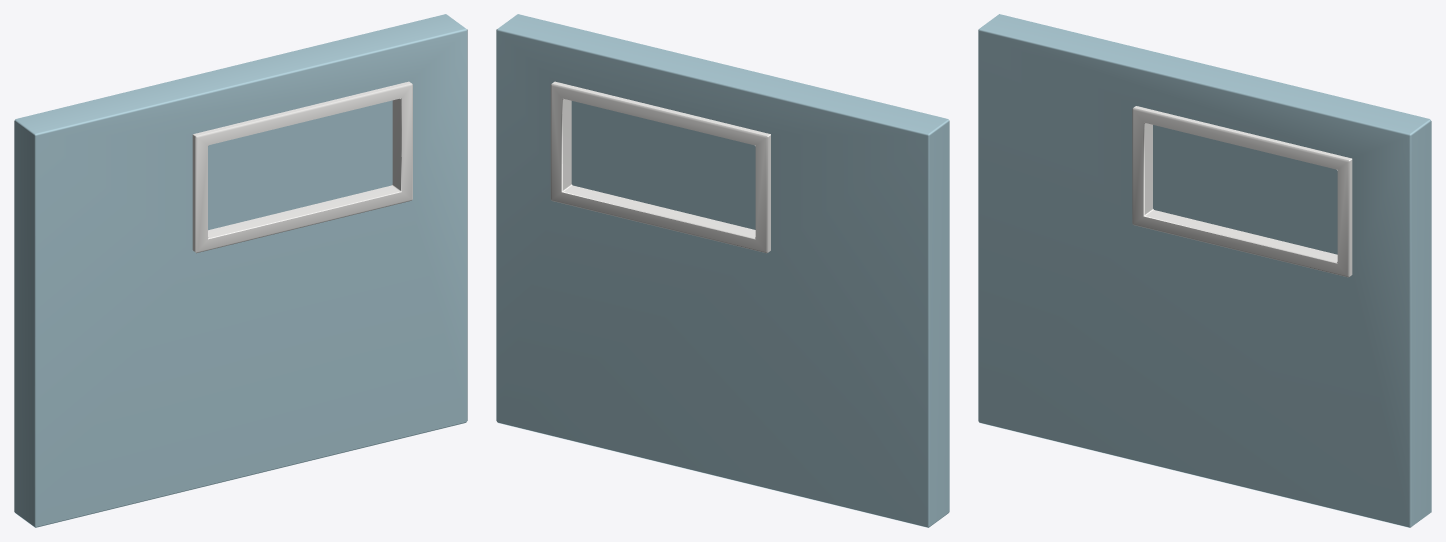
File: Wall_10.glb
3 renders of one model, left to right at view 1: azimuth 30°, elevation 25°; view 2: azimuth 150°, elevation 25°; view 3: azimuth 330°, elevation 25°, orthographic.
Visible parts, largest first — view 1: Wall_10; view 2: Wall_10; view 3: Wall_10.
Boxes of the visible parts, x1=… form: Wall_10: x1=14, y1=14, x2=467, y2=527; Wall_10: x1=496, y1=14, x2=949, y2=527; Wall_10: x1=978, y1=14, x2=1431, y2=527.
Size of the model in its own units: 4.6 by 4 by 0.5258.
Materials: 2 (2 with a texture image).
